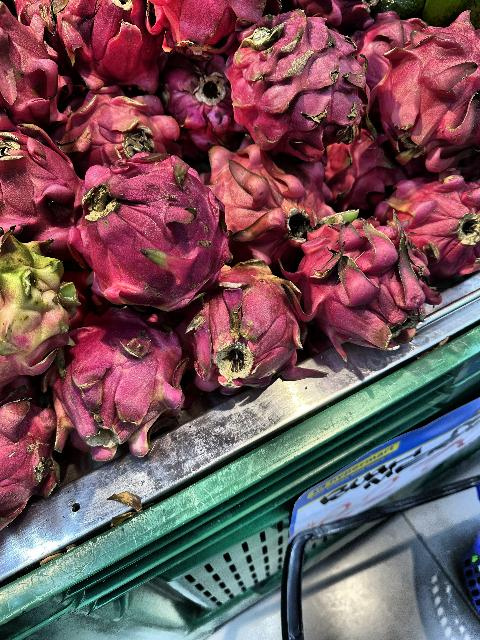buah-naga-belum-matang: (208, 142, 328, 248), (0, 226, 76, 380)
buah-naga-matang: (296, 218, 444, 366), (74, 167, 230, 305), (52, 318, 197, 456), (229, 20, 365, 160), (193, 256, 313, 406), (30, 1, 174, 98), (382, 31, 480, 162), (376, 170, 480, 276), (2, 118, 80, 258), (6, 378, 54, 532), (60, 100, 180, 160)
